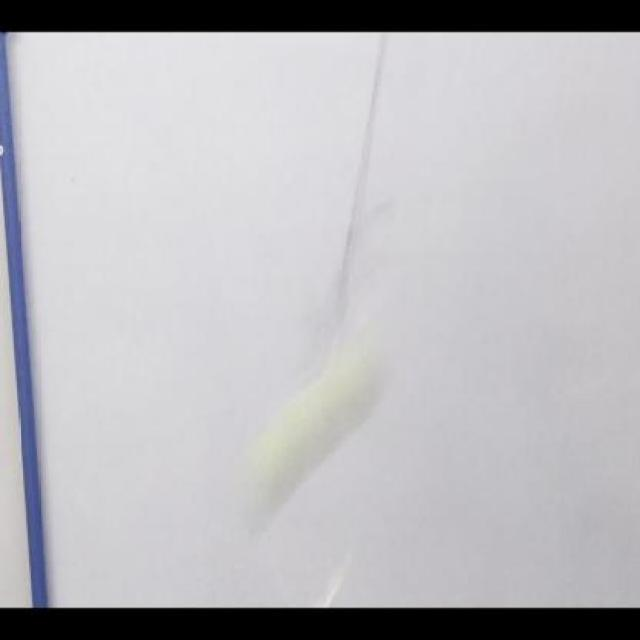baseball: (238, 330, 387, 536)
